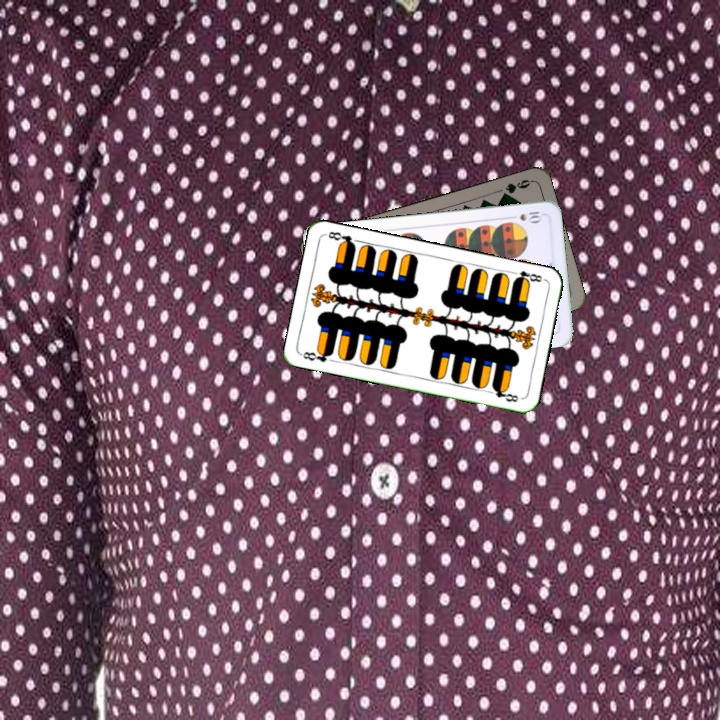E8: (298, 346, 336, 365), (507, 267, 544, 286)
G9: (497, 175, 535, 201)
S10: (505, 207, 545, 224)
